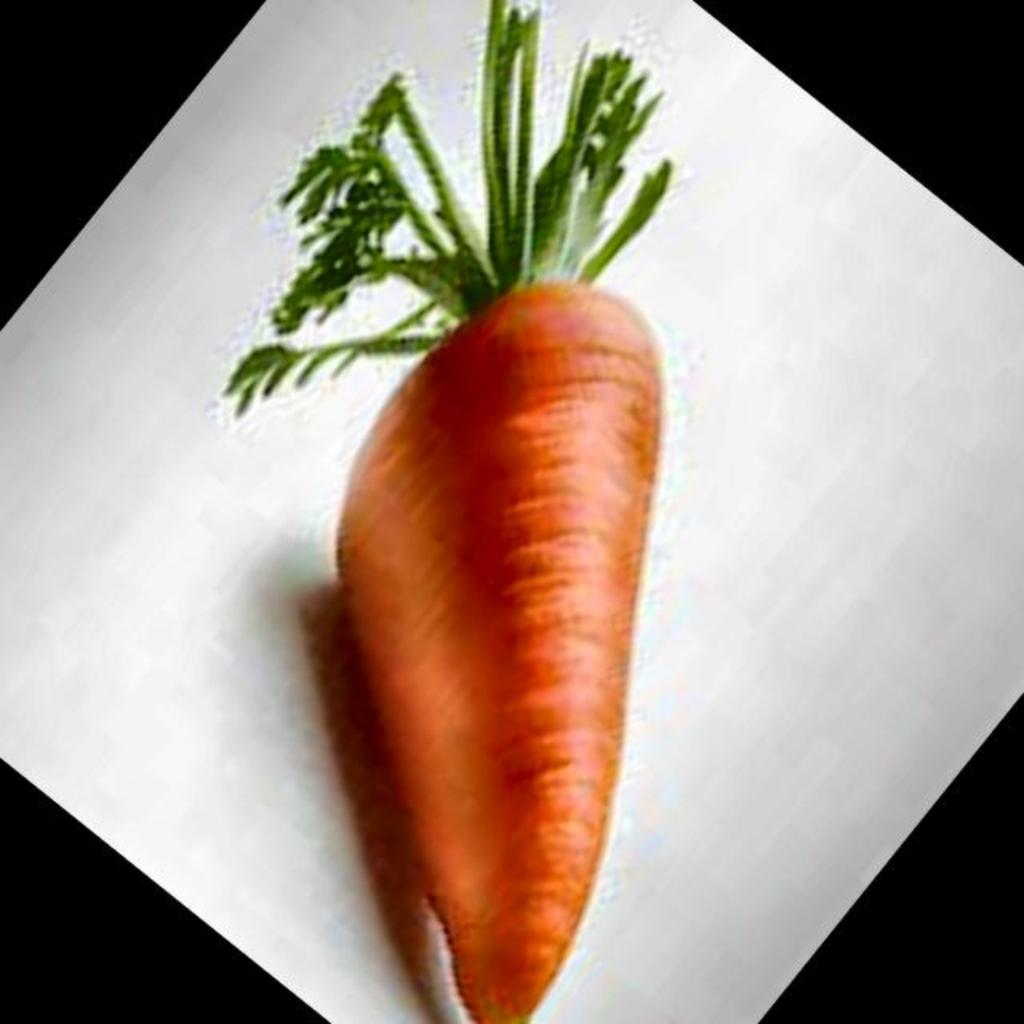carrot: (226, 0, 672, 1024)
